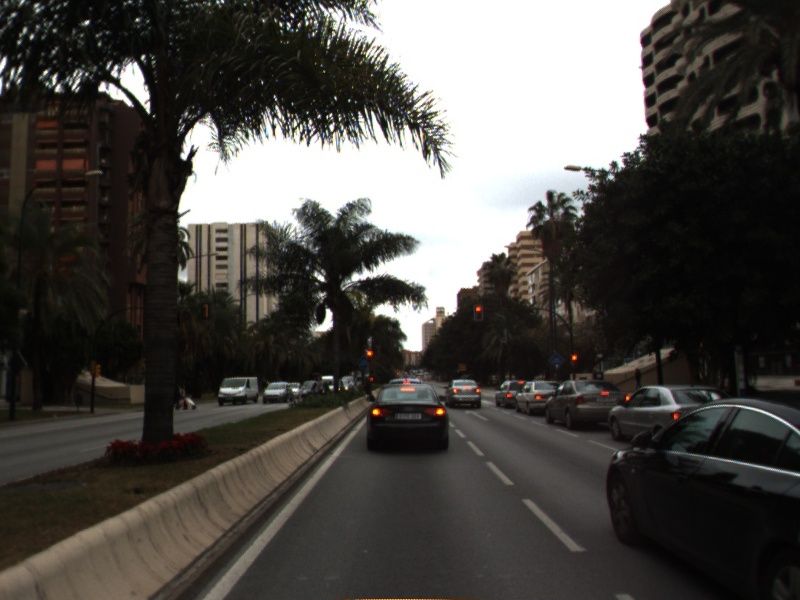STRAIGHT: (463, 407, 491, 423)
